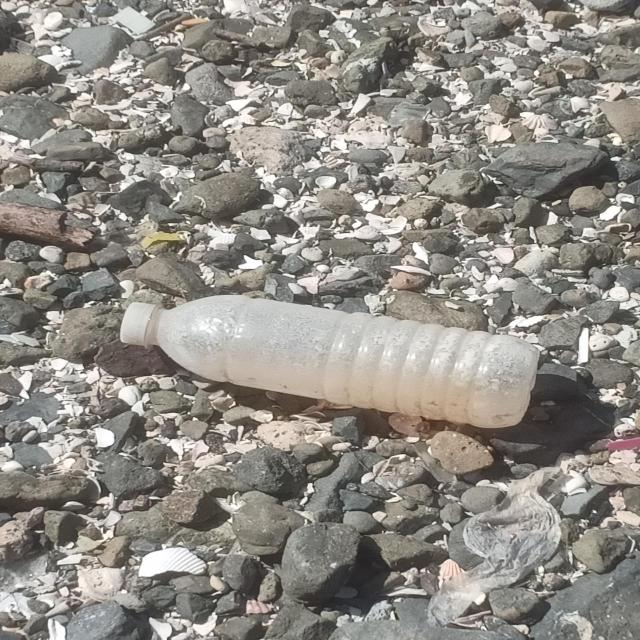plastic_waste: (121, 297, 542, 428)
